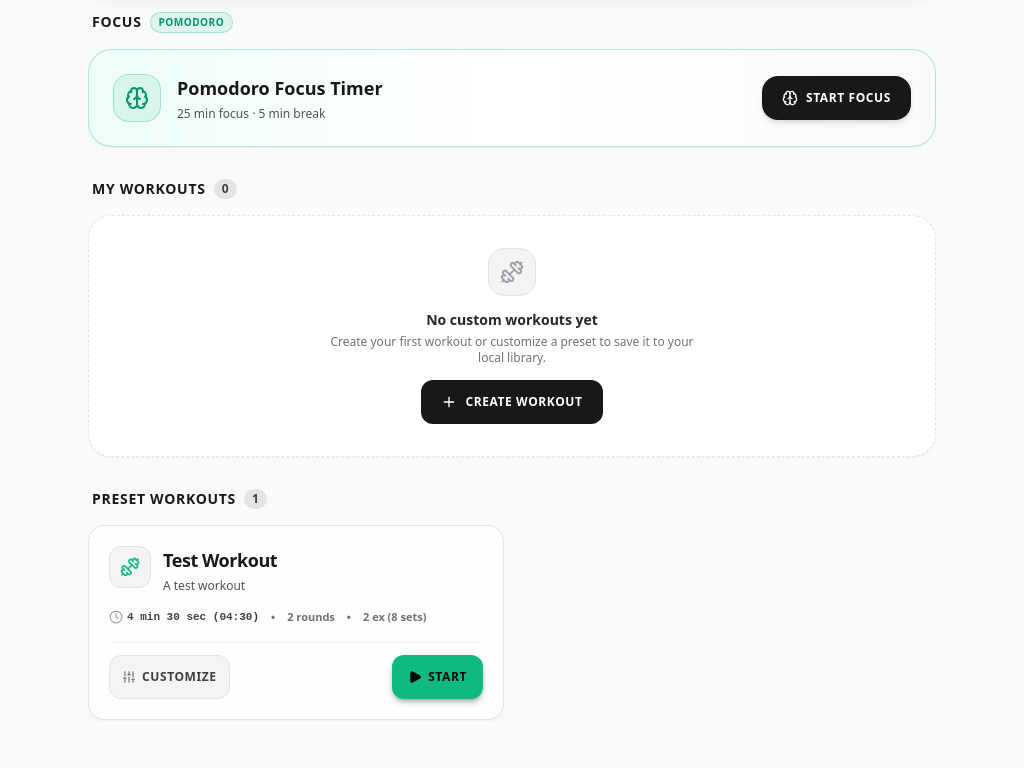
Test: Module 4 — Workout Player Integration Tests › 4. Timer snapshot updates UI upon clock progression
(page scrolled)
Click the button with aria-label "start workout".
click(438, 676)  # box 392,654 -> 483,698
(page scrolled)
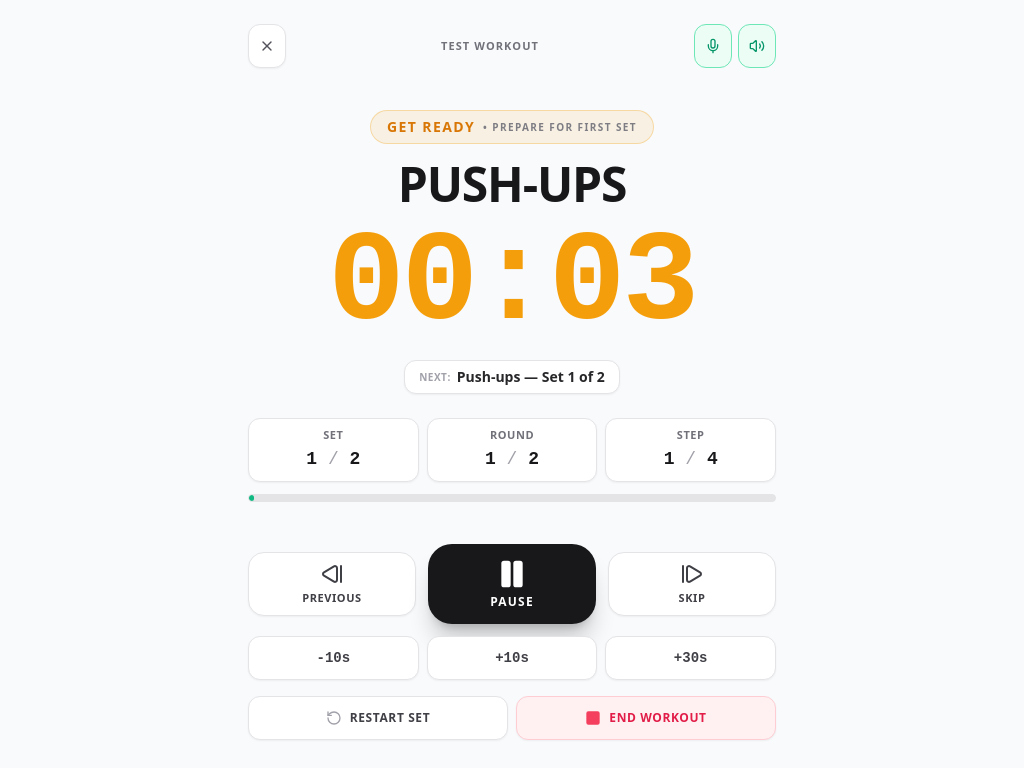
Now the text "00:03" is shown, box 328,211 -> 696,356
